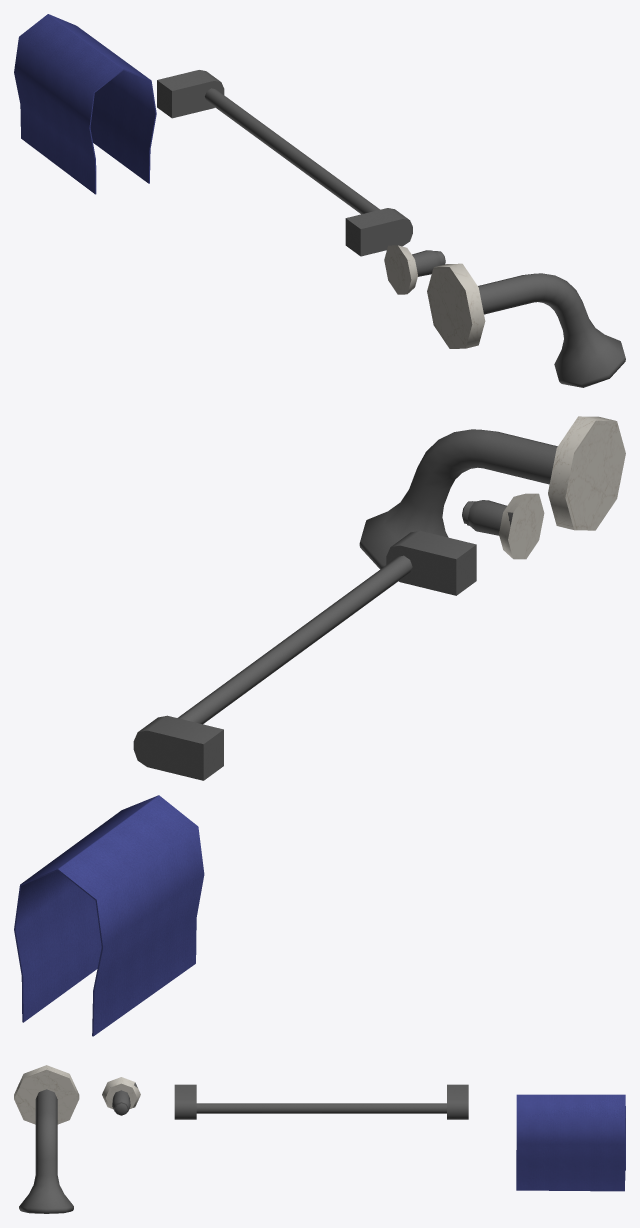
Rendered from shower_interior.obj.
The picture shows the model from 3 angles, top to bottom: view 1: azimuth 30°, elevation 25°; view 2: azimuth 150°, elevation 25°; view 3: azimuth 270°, elevation 25°; orthographic projection. The views are drawn at different scales.
Parts seen in each view (by area): view 1: towel, shower, rack, tap; view 2: towel, shower, rack, tap; view 3: towel, shower, rack, tap.
Part boxes in pixels (x1=…): towel: x1=14, y1=14, x2=156, y2=194; shower: x1=427, y1=263, x2=625, y2=387; rack: x1=157, y1=70, x2=412, y2=256; tap: x1=384, y1=245, x2=445, y2=294; towel: x1=14, y1=795, x2=204, y2=1036; shower: x1=359, y1=416, x2=625, y2=569; rack: x1=133, y1=530, x2=476, y2=780; tap: x1=462, y1=493, x2=544, y2=559; towel: x1=516, y1=1094, x2=625, y2=1191; shower: x1=14, y1=1065, x2=79, y2=1213; rack: x1=174, y1=1084, x2=468, y2=1119; tap: x1=102, y1=1077, x2=140, y2=1115.
Size of the model in its own units: 0.3152 by 0.237 by 1.12.
1 material, 1 textured.
